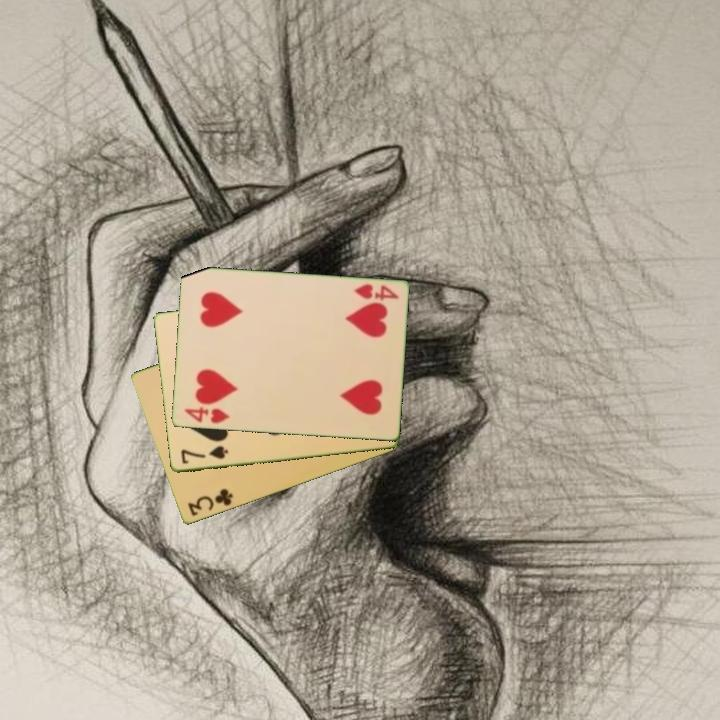3c: (184, 485, 236, 519)
4h: (180, 403, 232, 427), (350, 281, 401, 304)
7s: (177, 443, 231, 467)
